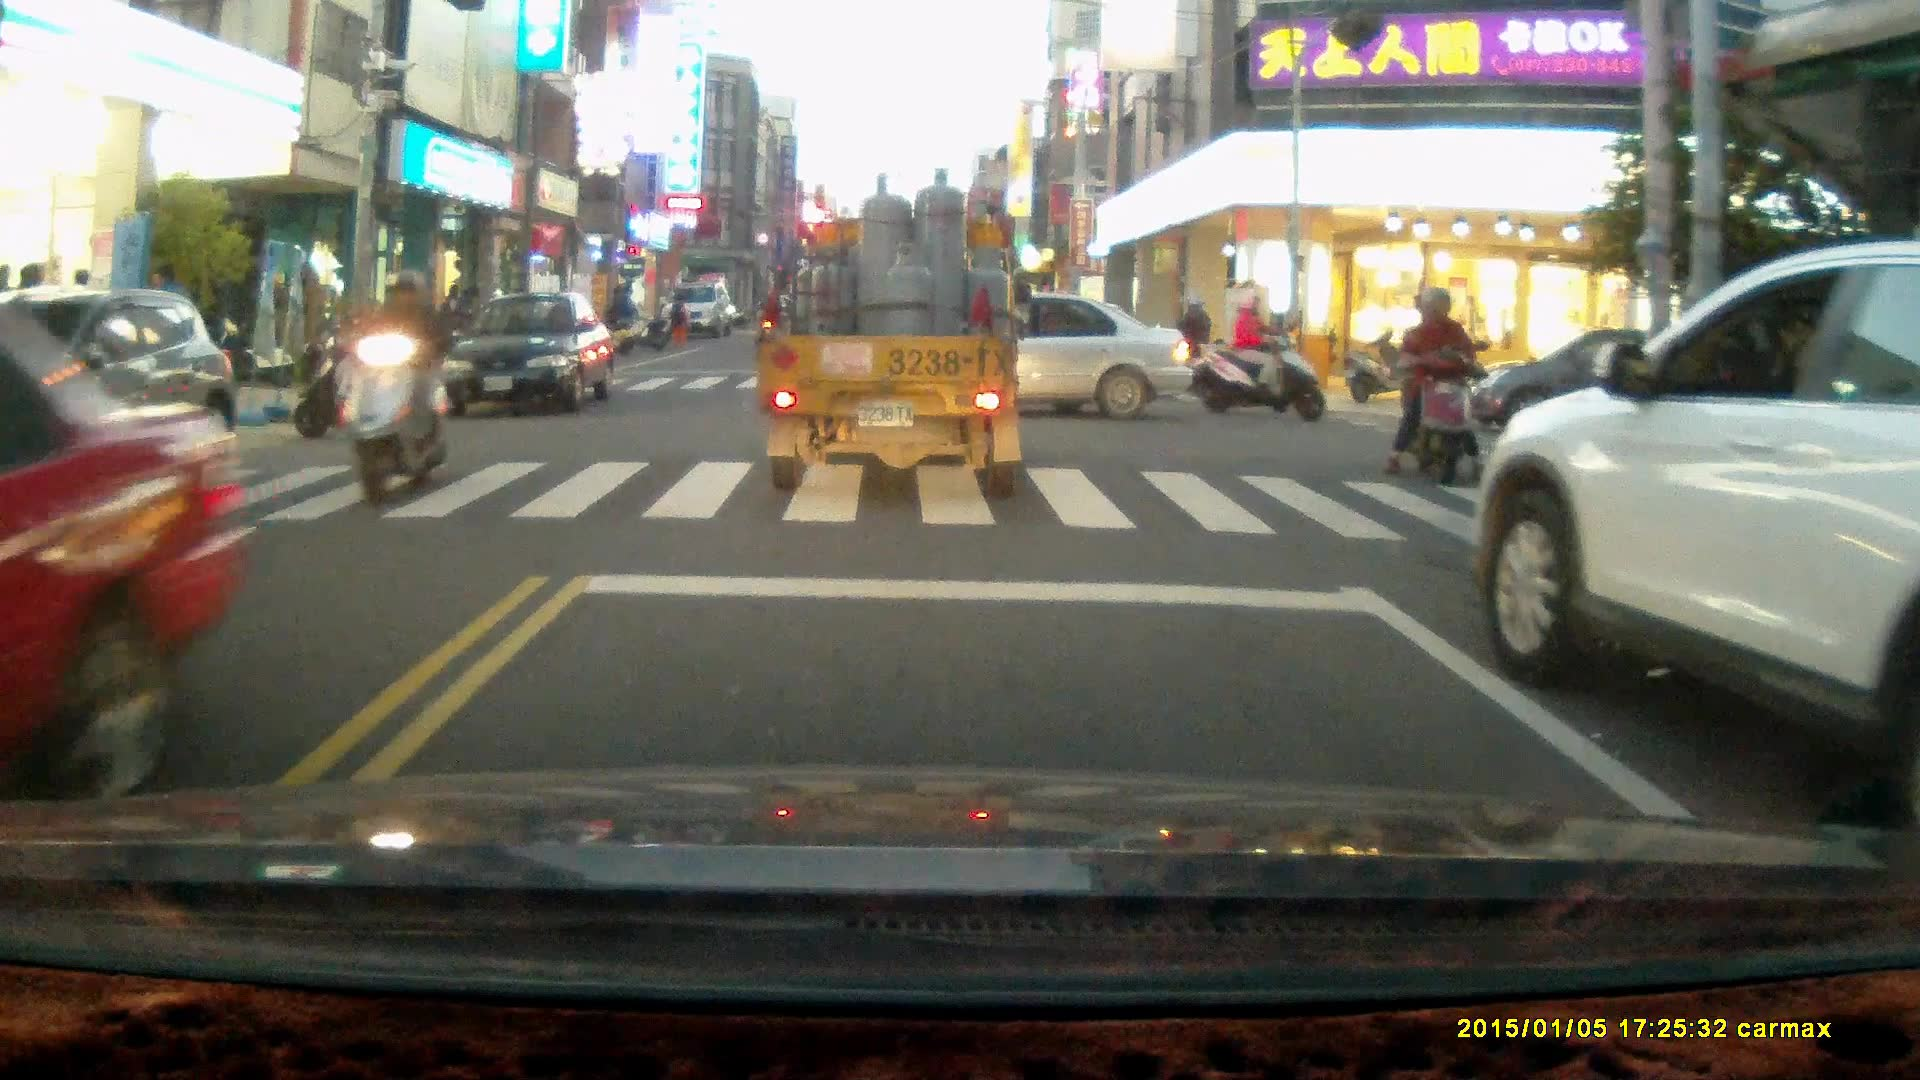pedestrian: (610, 281, 637, 344), (668, 290, 690, 347)
rider: (333, 267, 453, 505), (1379, 285, 1496, 490), (1196, 287, 1327, 417), (1132, 290, 1227, 400)
vehicle: (1477, 238, 1920, 834), (762, 176, 1028, 508), (809, 289, 1193, 420), (444, 293, 618, 415), (661, 283, 732, 336)
